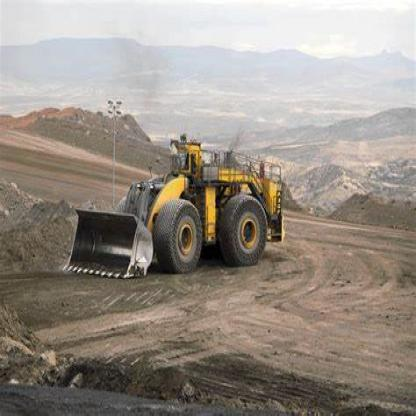bull_dozer/loader/grader: (64, 133, 291, 286)
